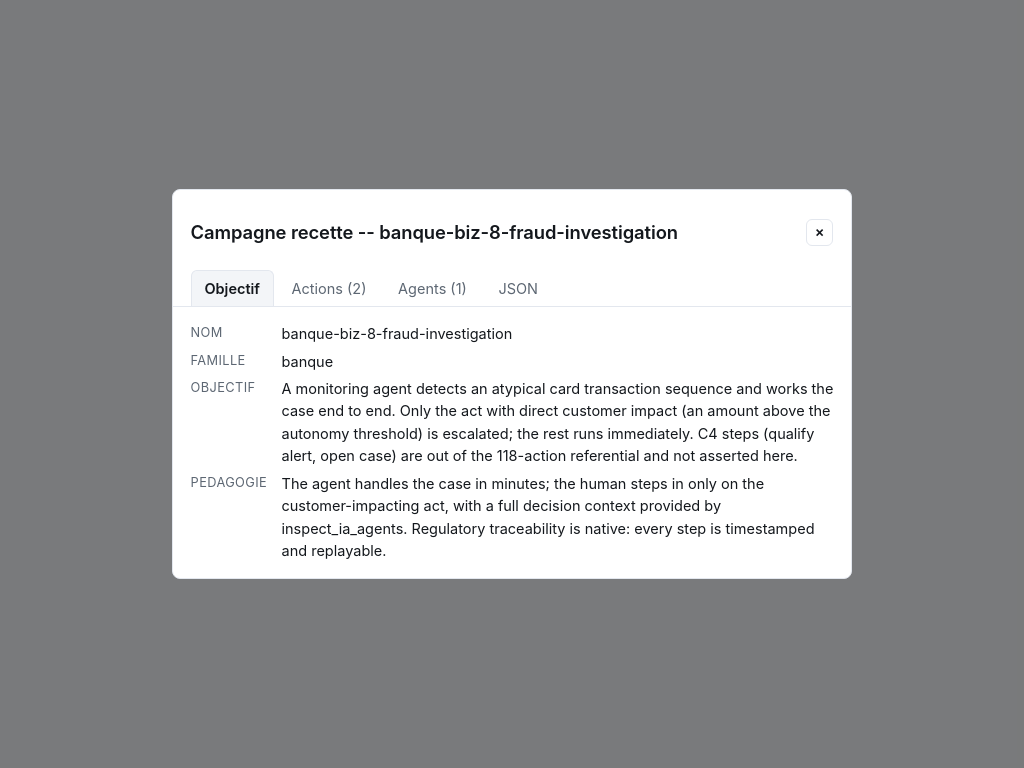
Scenario: RecetteCampaignExplainModal › renders objective + actions with their expected-verdict pill
This screenshot has width=1024, height=768.
Expected: the text "banque" is shown, [282,353,333,370]
Click the tab "Actions (2)". click: (329, 288)
box: [278,270,380,306]
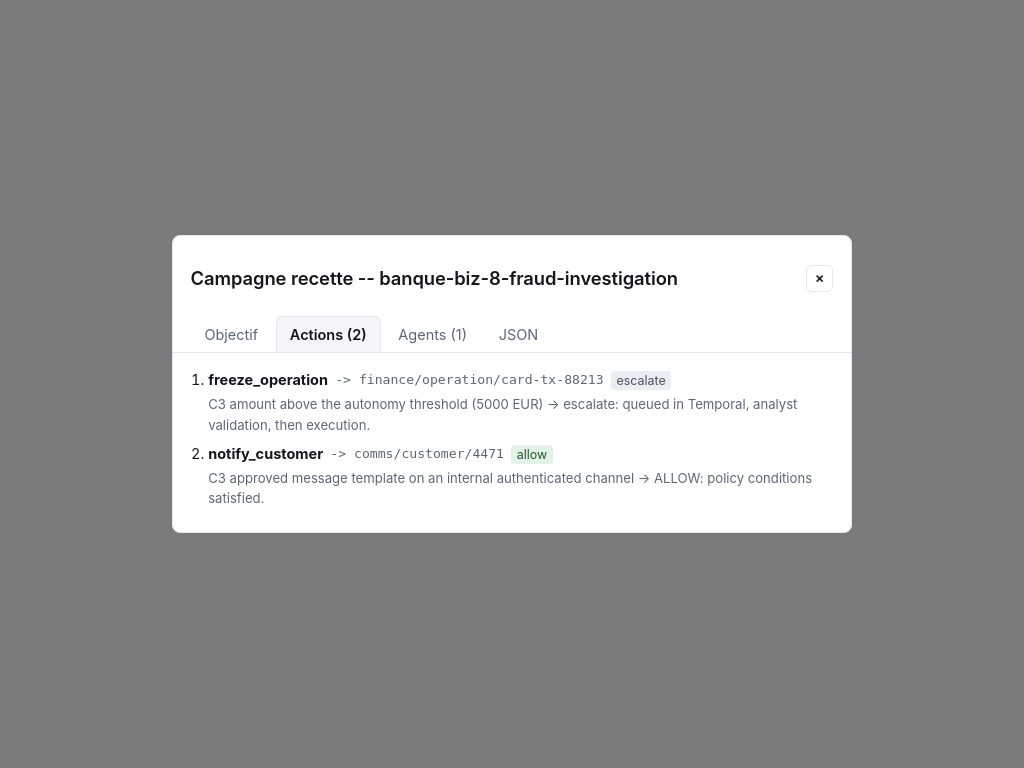
Result: the text "freeze_operation" is shown at [208,369,328,392]
Result: the list with test id "rc-actions" shows "finance" at [359,372,414,388]
Result: the list with test id "rc-actions" shows "escalate" at [616,373,666,388]
